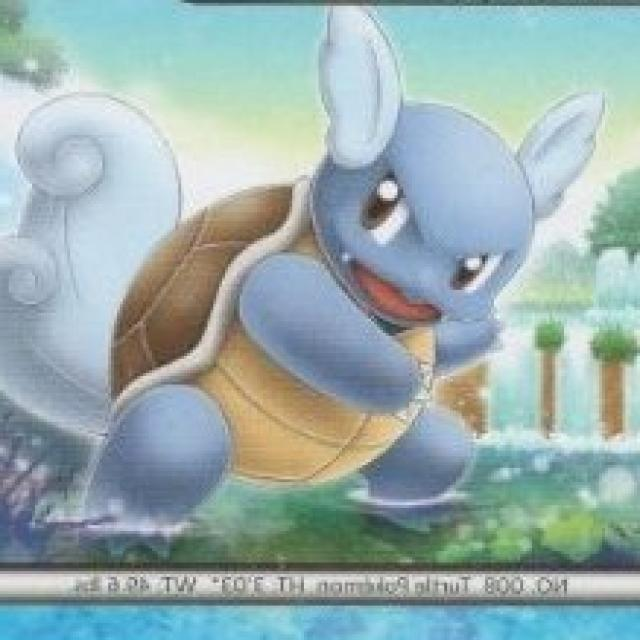Wartortle: (54, 46, 598, 529)
